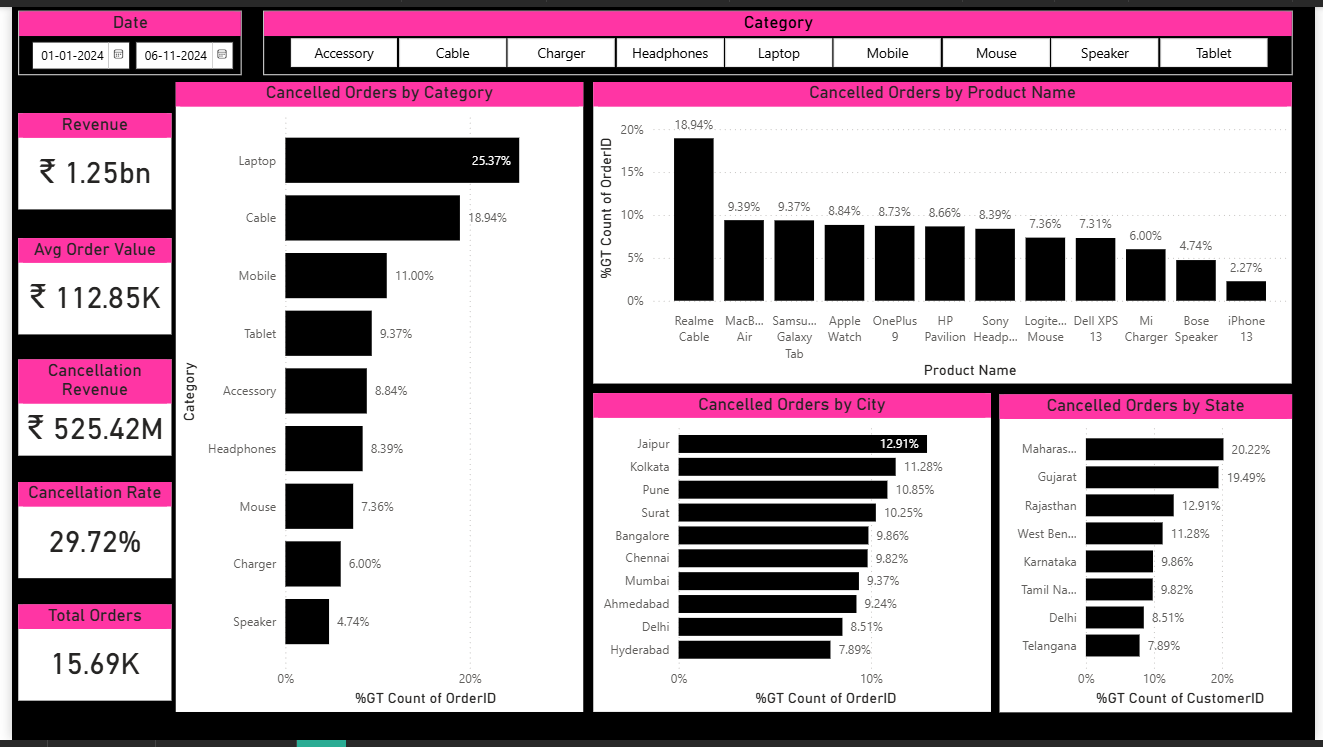

The page's visual inventory and layout, read from the dashboard file:
{"tool":"powerbi","page":{"name":"Cancellations","canvas":[1280,720],"ordinal":2},"visuals":[{"type":"shape","box":[0,0,1280.3,72.9],"z":0},{"type":"shape","box":[0,0,160.5,720.3],"z":1000},{"type":"clusteredBarChart","title":"Cancelled Orders by Category","fields":{"Category":["Products.Category"],"Y":["CountNonNull(Orders.OrderID)"]},"box":[160.7,73.6,400,618.4],"z":2000},{"type":"barChart","title":"Cancelled Orders by City","fields":{"Category":["Customers.City"],"Y":["CountNonNull(Orders.OrderID)"]},"box":[570.6,379.1,390.2,312.9],"z":3000},{"type":"columnChart","title":"Cancelled Orders by Product Name","fields":{"Category":["Products.Product Name"],"Y":["CountNonNull(Orders.OrderID)"]},"box":[570.6,73.6,685.9,295.7],"z":4000},{"type":"barChart","title":"Cancelled Orders by State","fields":{"Category":["Customers.State"],"Y":["CountNonNull(Orders.CustomerID)"]},"box":[969.3,380.4,287.1,311.7],"z":5000},{"type":"slicer","title":"Category","fields":{"Values":["Products.Category"]},"box":[246.3,3.7,1010.1,63.4],"z":6000},{"type":"card","title":"Revenue","fields":{"Values":["Key Measures.Revenue"]},"box":[6.2,104.5,150.5,94.5],"z":7000},{"type":"card","title":"Avg Order Value","fields":{"Values":["Key Measures.AOV"]},"box":[6.2,226.4,150.5,94.5],"z":8000},{"type":"card","title":"Cancellation Revenue","fields":{"Values":["Key Measures.Cancelled_rev"]},"box":[6.2,345.8,150.5,94.5],"z":9000},{"type":"card","title":"Cancellation Rate","fields":{"Values":["Key Measures.Cancellation Rate"]},"box":[6.2,466.5,150.5,94.5],"z":10000},{"type":"card","title":"Total Orders","fields":{"Values":["CountNonNull(Orders.OrderID)"]},"box":[6.2,585.9,150.5,94.5],"z":11000},{"type":"slicer","title":"Date","fields":{"Values":["Orders.Date and time of purchase"]},"box":[6.2,3.7,218.9,63.4],"z":12000}]}

Visuals, with their boxes in screenshot pixels (x1, y1, x2, y2), scaled from the page's 1280x720 canvas onto the 1323x747 screenshot:
shape: <region>0, 0, 1322, 76</region>
shape: <region>0, 0, 166, 746</region>
"Cancelled Orders by Category" clusteredBarChart: <region>166, 76, 580, 718</region>
"Cancelled Orders by City" barChart: <region>590, 393, 993, 718</region>
"Cancelled Orders by Product Name" columnChart: <region>590, 76, 1299, 383</region>
"Cancelled Orders by State" barChart: <region>1002, 395, 1299, 718</region>
"Category" slicer: <region>255, 4, 1299, 70</region>
"Revenue" card: <region>6, 108, 162, 206</region>
"Avg Order Value" card: <region>6, 235, 162, 333</region>
"Cancellation Revenue" card: <region>6, 359, 162, 457</region>
"Cancellation Rate" card: <region>6, 484, 162, 582</region>
"Total Orders" card: <region>6, 608, 162, 706</region>
"Date" slicer: <region>6, 4, 233, 70</region>
